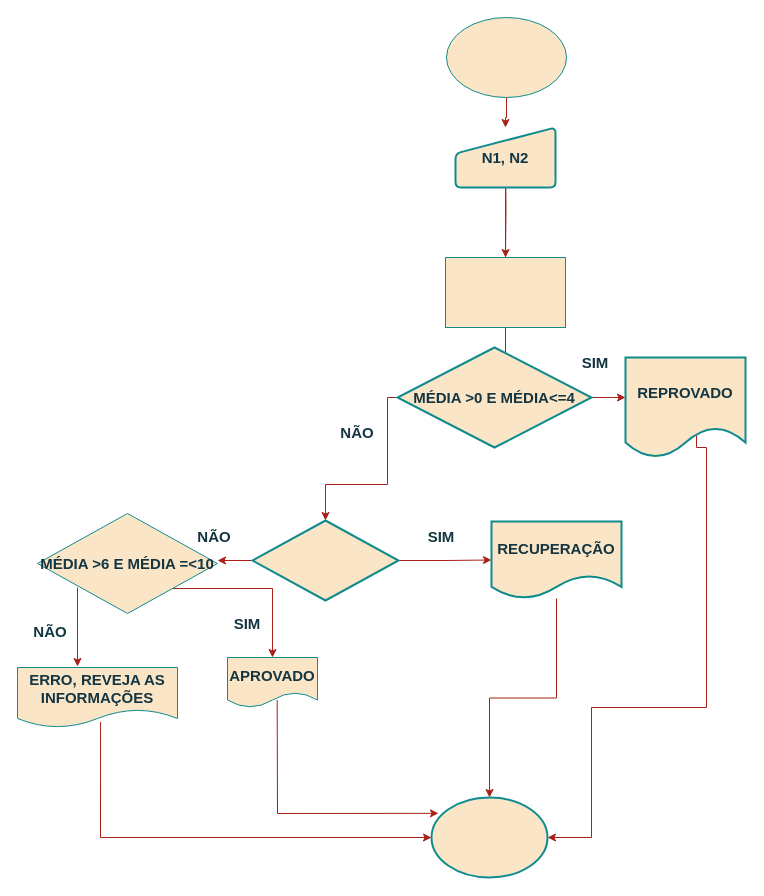
The diagram is 764 pixels wide and 896 high, and some of its shapes have lost their labels. The box of each missing label's shape, as (x1, y1, x2, y2) in pixels:
FIM: (430, 796, 548, 878)
INÍCIO: (446, 16, 566, 98)
MÉDIA = (N1+N2)/2: (444, 256, 566, 328)
MÉDIA>4 E MÉDIA<=6: (251, 519, 399, 601)
